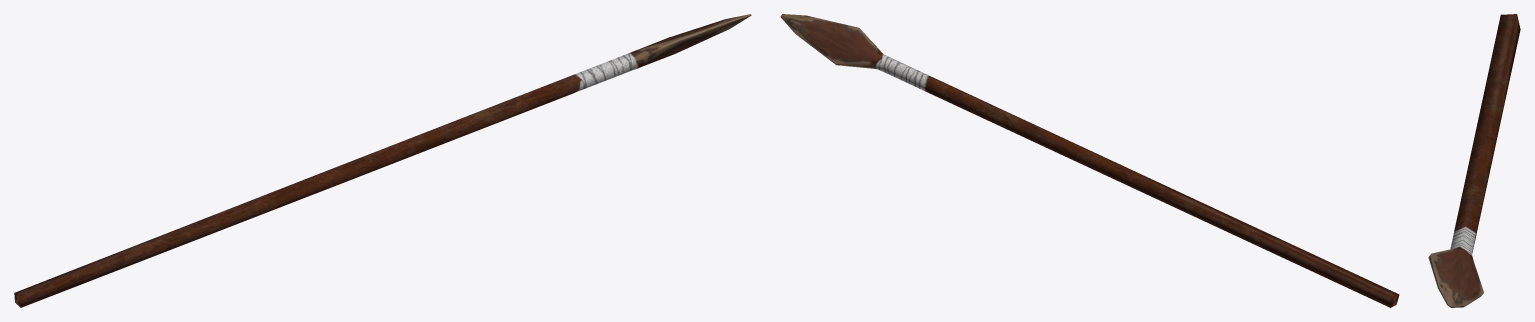
File: rider-weapon-slice-base.glb
3 views of the same model, side by side, from view 1: azimuth 90°, elevation 25°; view 2: azimuth 210°, elevation 25°; view 3: azimuth 330°, elevation 25° (orthographic). The views are drawn at different scales.
Bounding box in the file's own units: 0.8077 × 0.326 × 1.57.
1 material, 1 textured.
